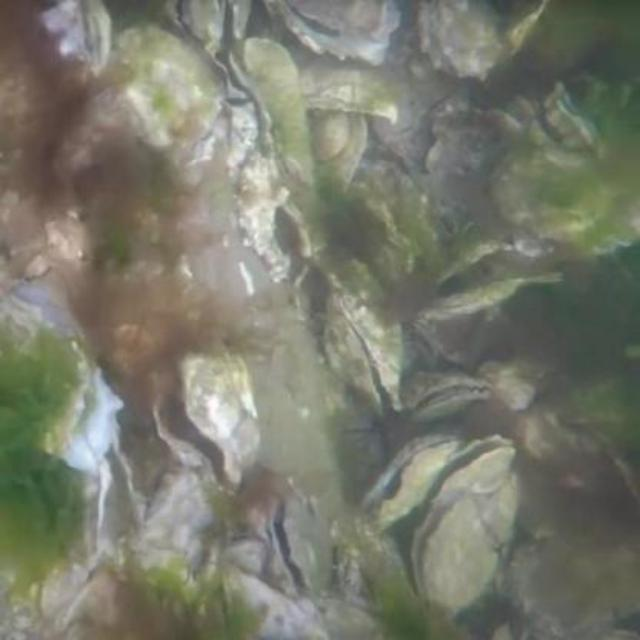Oyster-Closed: (109, 27, 221, 143), (419, 0, 550, 81), (224, 562, 315, 638), (303, 59, 399, 118), (306, 111, 365, 203)
Oyster-Open: (145, 343, 268, 489), (410, 481, 516, 621), (407, 245, 556, 329), (319, 287, 402, 419), (369, 431, 458, 530), (270, 0, 392, 66), (61, 358, 121, 491), (508, 86, 593, 176), (267, 491, 338, 596), (422, 430, 511, 513), (403, 367, 497, 421)
